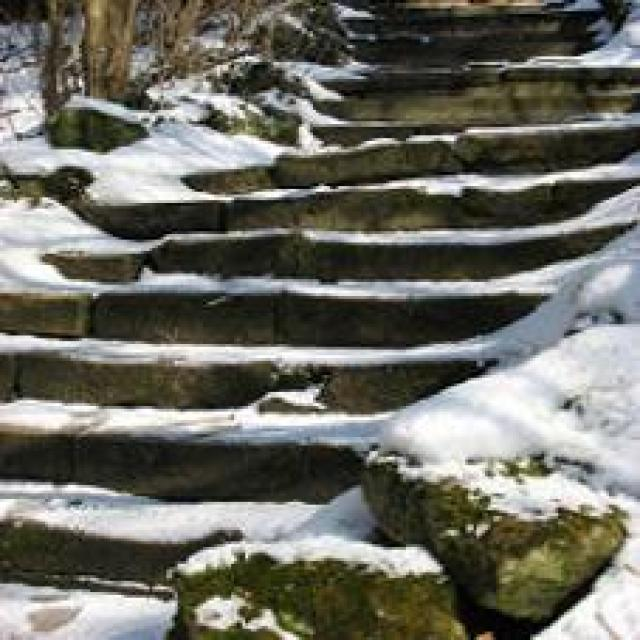upstair: (10, 235, 399, 573)
